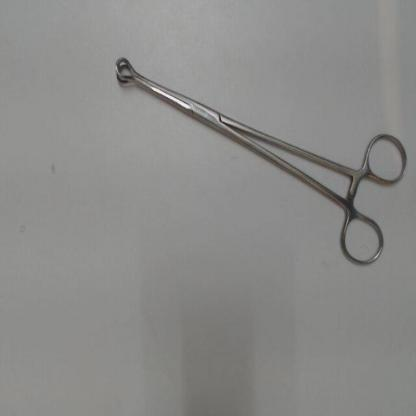8 Babcock Tissue Forceps: (107, 49, 408, 271)
